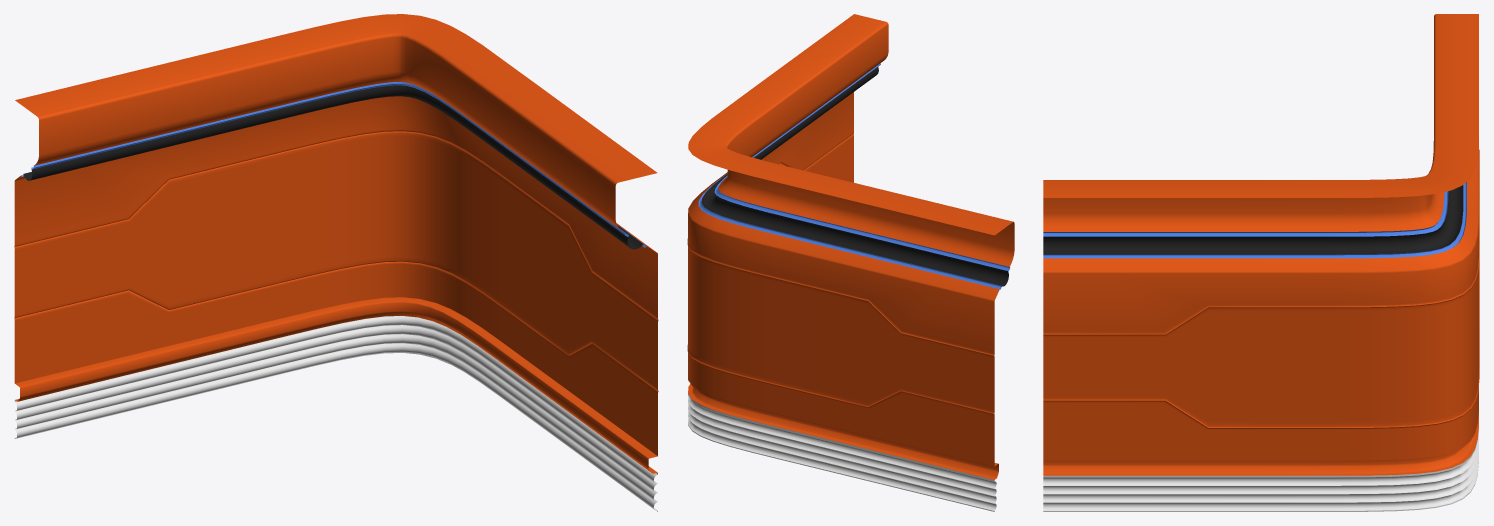
The model's file is GymWallCorner.fbx.
3 views of the same model, side by side, from view 1: azimuth 30°, elevation 25°; view 2: azimuth 150°, elevation 25°; view 3: azimuth 270°, elevation 25° (orthographic). The views are drawn at different scales.
Visible parts, largest first — view 1: GymWall_Corner; view 2: GymWall_Corner; view 3: GymWall_Corner.
Part boxes in pixels (x1,y1,x2,y2): GymWall_Corner: [14, 14, 658, 511]; GymWall_Corner: [687, 14, 1014, 511]; GymWall_Corner: [1043, 14, 1479, 511].
Bounding box in the file's own units: 579 × 459 × 579.
